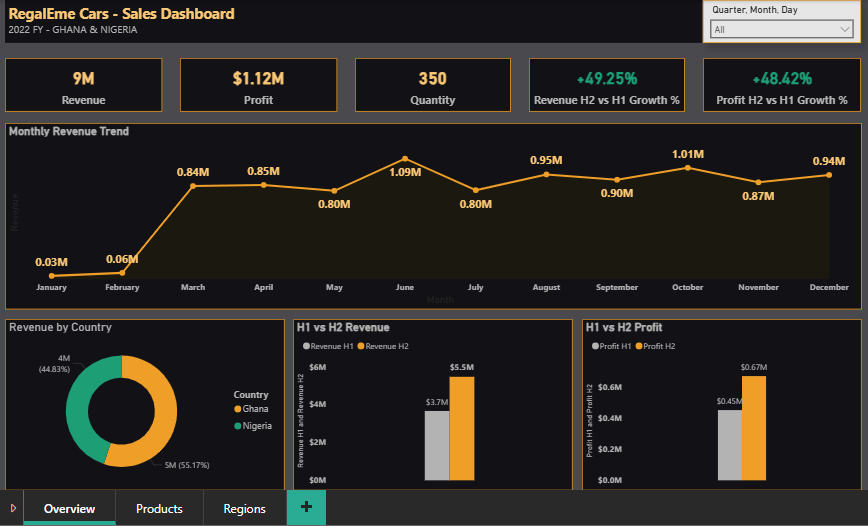

The dashboard page shown, as its layout file describes it:
{"tool":"powerbi","page":{"name":"Overview","canvas":[1280,720],"ordinal":0},"visuals":[{"type":"card","fields":{"Values":["0- Measures.Revenue"]},"box":[8.9,85.8,230.6,78.7],"z":0},{"type":"card","fields":{"Values":["0- Measures.Profit"]},"box":[266.4,85.8,230.6,78.7],"z":1000},{"type":"card","fields":{"Values":["0- Measures.Revenue H2 vs H1 Growth %"]},"box":[779.4,85.8,228.8,78.7],"z":2000},{"type":"card","fields":{"Values":["0- Measures.Qty"]},"box":[523.8,85.8,228.8,78.7],"z":3000},{"type":"card","fields":{"Values":["0- Measures.Profit H2 vs H1 Growth %"]},"box":[1035.1,85.8,232.4,78.7],"z":4000},{"type":"lineChart","title":"Monthly Revenue Trend","fields":{"Category":["Sales.Date.Variation.Date Hierarchy.Month"],"Y":["0- Measures.Revenue"]},"box":[8.9,180.6,1258.5,273.5],"z":5000},{"type":"donutChart","fields":{"Category":["Dealers.Country"],"Y":["0- Measures.Revenue"]},"box":[8.9,468.4,411.2,252.1],"z":6000},{"type":"clusteredColumnChart","title":"H1 vs H2 Revenue","fields":{"Y":["0- Measures.Revenue H1","0- Measures.Revenue H2"]},"box":[432.6,468.4,411.2,252.1],"z":7000},{"type":"clusteredColumnChart","title":"H1 vs H2 Profit","fields":{"Y":["0- Measures.Profit H1","0- Measures.Profit H2"]},"box":[856.3,468.4,411.2,252.1],"z":8000},{"type":"textbox","box":[8.9,0,1024.4,62.6],"z":9000},{"type":"slicer","fields":{"Values":["Sales.Date.Variation.Date Hierarchy.Quarter","Sales.Date.Variation.Date Hierarchy.Month","Sales.Date.Variation.Date Hierarchy.Day"]},"box":[1035.1,0,232.4,62.6],"z":10000}]}

Visuals, with their boxes on the page's 1280x720 design canvas (x1, y1, x2, y2). These are canvas units, not pixel positions in the 868x526 screenshot, which may show the page scaled, cropped or inside an application window:
card - 0- Measures.Revenue: bbox=[9, 86, 240, 164]
card - 0- Measures.Profit: bbox=[266, 86, 497, 164]
card - 0- Measures.Revenue H2 vs H1 Growth %: bbox=[779, 86, 1008, 164]
card - 0- Measures.Qty: bbox=[524, 86, 753, 164]
card - 0- Measures.Profit H2 vs H1 Growth %: bbox=[1035, 86, 1268, 164]
"Monthly Revenue Trend" lineChart: bbox=[9, 181, 1267, 454]
donutChart - Dealers.Country x 0- Measures.Revenue: bbox=[9, 468, 420, 720]
"H1 vs H2 Revenue" clusteredColumnChart: bbox=[433, 468, 844, 720]
"H1 vs H2 Profit" clusteredColumnChart: bbox=[856, 468, 1268, 720]
textbox: bbox=[9, 0, 1033, 63]
slicer - Sales.Date.Variation.Date Hierarchy.Quarter x Sales.Date.Variation.Date Hierarchy.Month: bbox=[1035, 0, 1268, 63]
